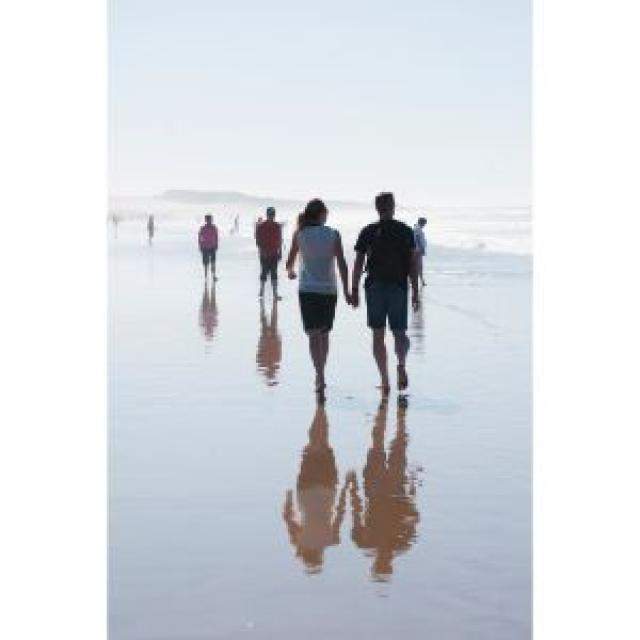nonfall: (358, 185, 423, 409), (288, 196, 348, 398), (248, 191, 283, 310), (188, 208, 227, 281)
